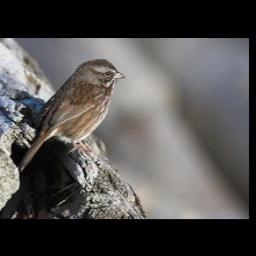Sparrow: (19, 58, 127, 173)
